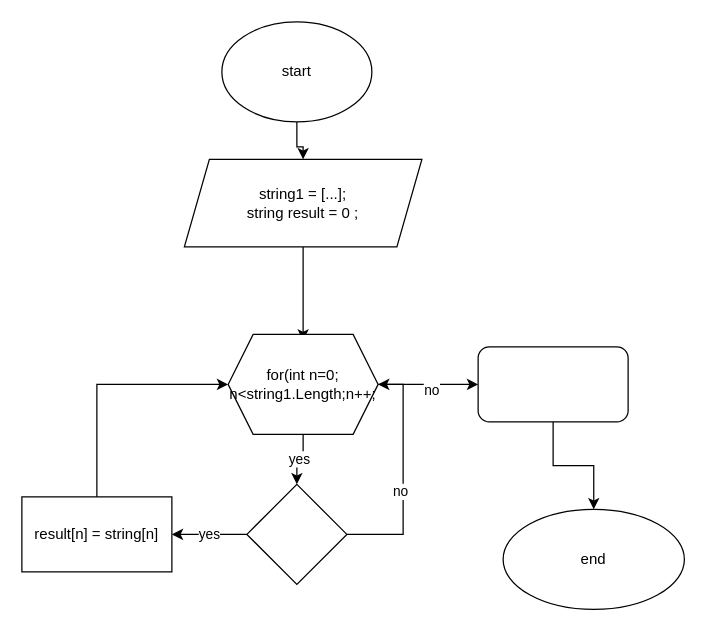
The diagram is 706 pixels wide and 631 high, and some of its shapes have lost their labels. The shapes that lost their labels are listed below. From the top down, each one's centre as x and y in pixels, then its label:
At (x=552, y=384): "print result".
At (x=296, y=533): "string1[n] <=3".
